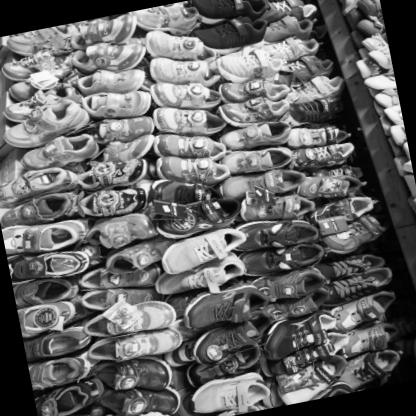left_foot: (2, 104, 85, 150), (196, 315, 275, 361), (164, 259, 249, 299), (8, 222, 84, 261), (94, 298, 175, 334), (204, 13, 271, 56), (149, 157, 228, 193), (159, 106, 222, 140), (10, 50, 70, 85), (74, 15, 135, 49), (158, 56, 212, 93), (94, 219, 150, 252)
right_foot: (163, 225, 244, 273), (188, 282, 262, 330), (89, 332, 181, 369), (241, 215, 311, 255), (267, 312, 333, 352), (1, 170, 70, 208), (15, 251, 86, 286), (229, 167, 303, 200), (92, 389, 177, 416), (285, 359, 343, 397), (294, 113, 354, 149), (228, 117, 293, 150), (257, 269, 320, 302), (147, 33, 210, 66), (83, 42, 141, 76), (340, 295, 392, 332), (223, 77, 287, 106), (309, 170, 366, 202), (91, 91, 146, 123), (168, 133, 221, 164), (151, 187, 216, 212), (112, 244, 160, 277), (90, 188, 141, 219), (105, 137, 152, 167), (333, 252, 383, 278), (287, 58, 323, 90)
